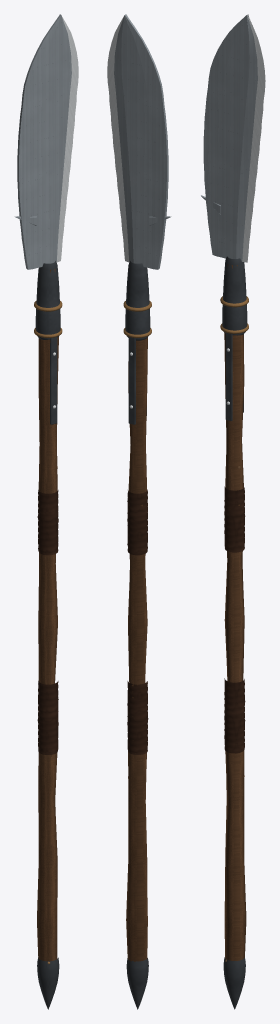
Rendered from glaive.lod1.glb.
The picture shows the model from 3 angles, left to right: view 1: azimuth 30°, elevation 25°; view 2: azimuth 150°, elevation 25°; view 3: azimuth 330°, elevation 25°; orthographic projection.
Parts seen in each view (by area): view 1: steel / forged blade steel, wood / oiled hardwood, darksteel / oil-blackened fittings, leather / oiled leather wrap, edge / honed bright bevel, bronze / cast bronze with patina; view 2: steel / forged blade steel, wood / oiled hardwood, darksteel / oil-blackened fittings, leather / oiled leather wrap, edge / honed bright bevel, bronze / cast bronze with patina; view 3: steel / forged blade steel, wood / oiled hardwood, darksteel / oil-blackened fittings, leather / oiled leather wrap, edge / honed bright bevel, bronze / cast bronze with patina.
Boxes of the visible parts, x1,y1,x2,y2 form: steel / forged blade steel: (14, 14, 71, 269); wood / oiled hardwood: (37, 269, 58, 961); darksteel / oil-blackened fittings: (35, 261, 60, 1009); leather / oiled leather wrap: (37, 490, 58, 754); edge / honed bright bevel: (53, 17, 78, 408); bronze / cast bronze with patina: (34, 300, 62, 337); steel / forged blade steel: (114, 14, 171, 269); wood / oiled hardwood: (126, 337, 147, 961); darksteel / oil-blackened fittings: (125, 261, 150, 1009); leather / oiled leather wrap: (127, 490, 148, 754); edge / honed bright bevel: (107, 17, 132, 408); bronze / cast bronze with patina: (123, 300, 151, 337); steel / forged blade steel: (201, 14, 257, 261); wood / oiled hardwood: (224, 264, 246, 960); darksteel / oil-blackened fittings: (222, 256, 247, 1009); leather / oiled leather wrap: (224, 486, 245, 753); edge / honed bright bevel: (226, 14, 265, 404); bronze / cast bronze with patina: (220, 296, 248, 333).
Size of the model in its own units: 0.1528 by 2.25 by 0.0592.
8 materials, 6 textured.
